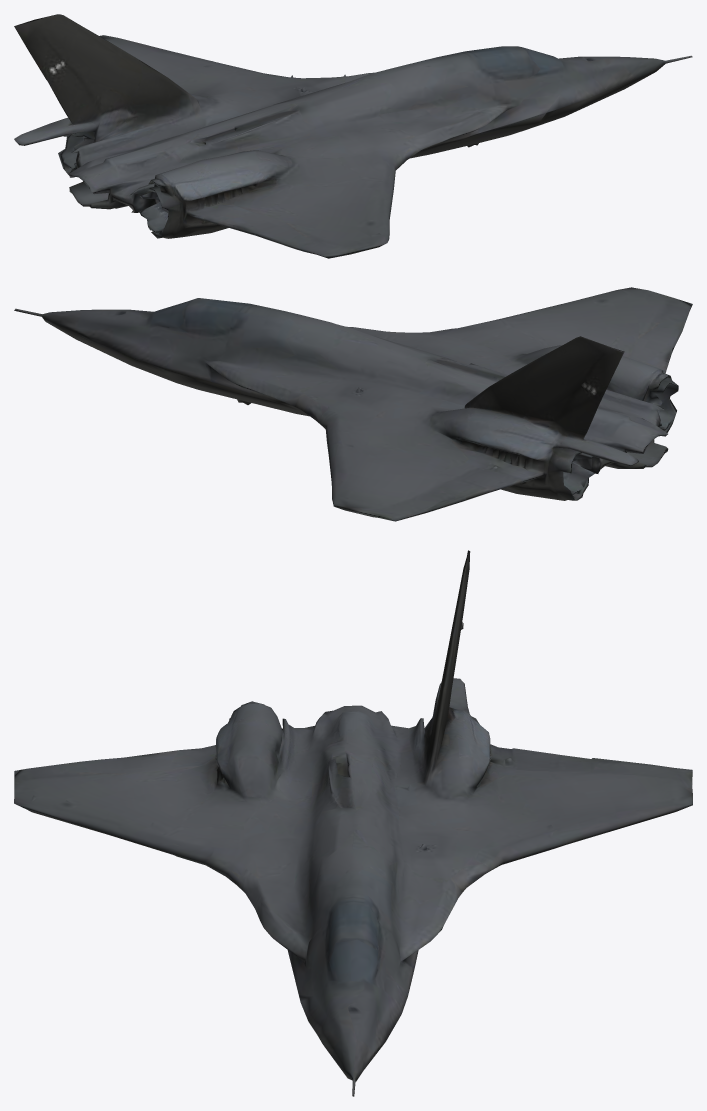
The picture shows the model from 3 angles, top to bottom: view 1: azimuth 30°, elevation 25°; view 2: azimuth 150°, elevation 25°; view 3: azimuth 270°, elevation 25°; orthographic projection. The views are drawn at different scales.
Visible parts, largest first — view 1: tripo_node_f65235cb-d27e-403d-b45c-f9c4ba998559; view 2: tripo_node_f65235cb-d27e-403d-b45c-f9c4ba998559; view 3: tripo_node_f65235cb-d27e-403d-b45c-f9c4ba998559.
Boxes of the visible parts, x1,y1,x2,y2 form: tripo_node_f65235cb-d27e-403d-b45c-f9c4ba998559: [14, 14, 692, 258]; tripo_node_f65235cb-d27e-403d-b45c-f9c4ba998559: [14, 287, 692, 521]; tripo_node_f65235cb-d27e-403d-b45c-f9c4ba998559: [14, 550, 692, 1096].
Size of the model in its own units: 1 by 0.2806 by 0.7744.
Materials: 1 (1 with a texture image).
